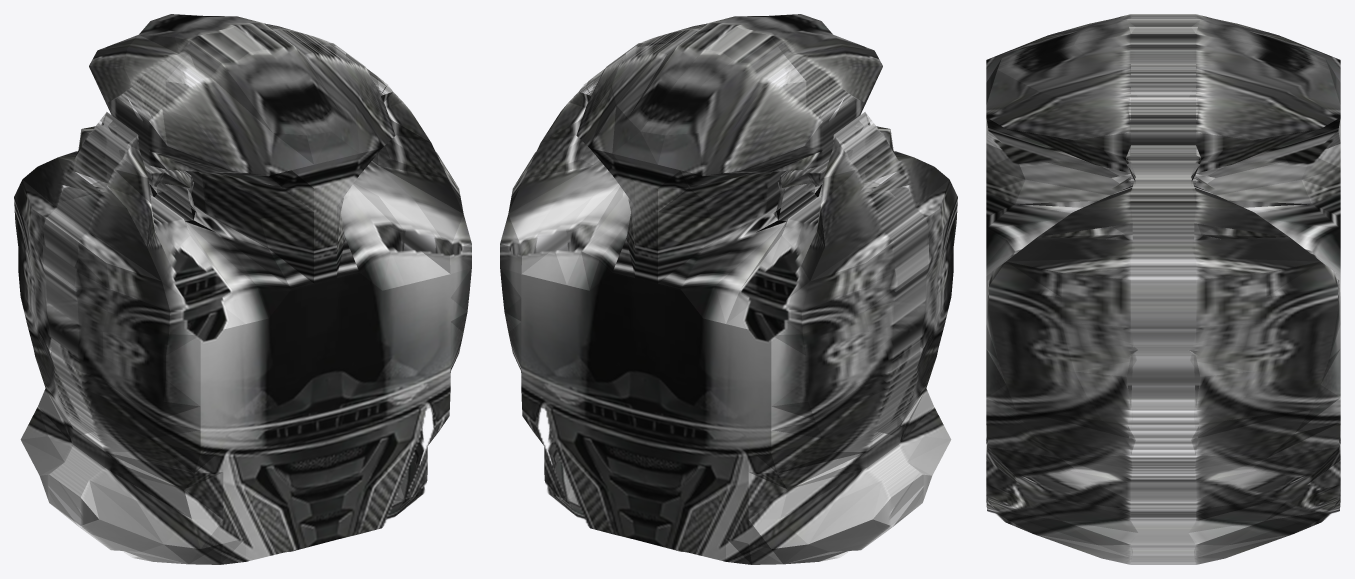
Rendered from rev-it-nomad-full-face-helmet-051.glb.
3 renders of one model, left to right at view 1: azimuth 30°, elevation 25°; view 2: azimuth 150°, elevation 25°; view 3: azimuth 270°, elevation 25°, orthographic. The views are drawn at different scales.
Parts seen in each view (by area): view 1: world; view 2: world; view 3: world.
Boxes of the visible parts, x1,y1,x2,y2 form: world: [14, 14, 471, 564]; world: [500, 14, 957, 564]; world: [986, 14, 1340, 564].
Size of the model in its own units: 0.7876 by 1 by 0.64.
1 material, 1 textured.
